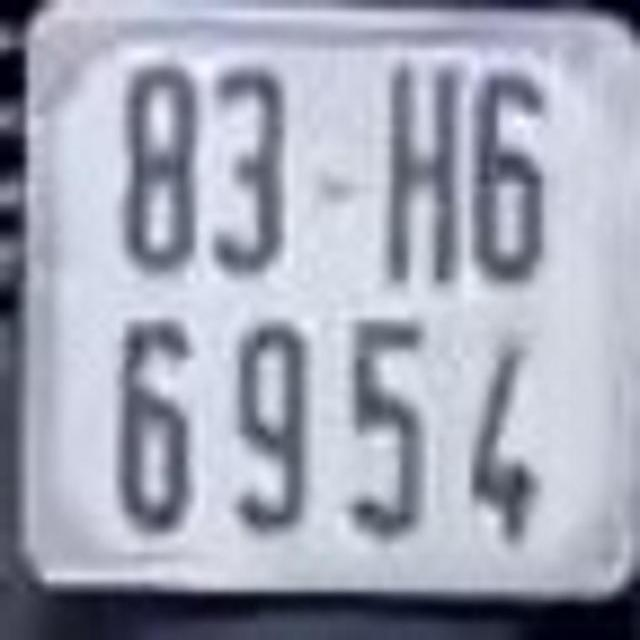3: (211, 50, 287, 285)
4: (467, 327, 537, 547)
5: (348, 312, 423, 539)
6: (472, 51, 548, 288), (114, 312, 194, 531)
8: (122, 53, 200, 274)
9: (231, 317, 310, 530)
H: (383, 54, 460, 292)
